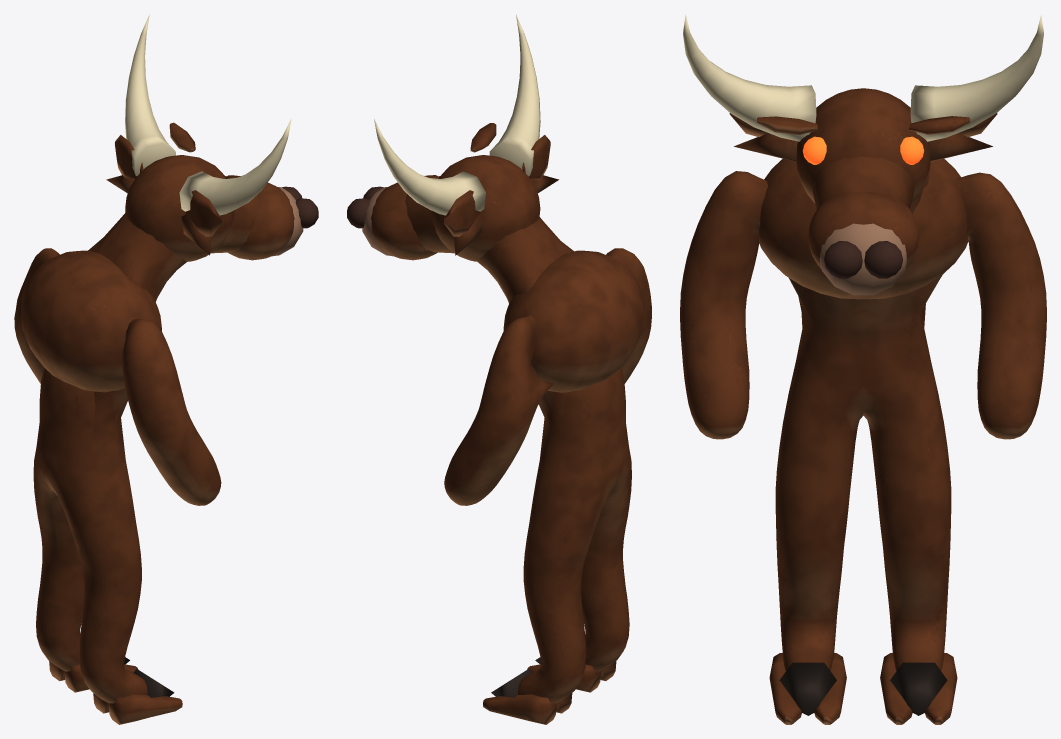
The model's file is minotaur.glb.
3 views of the same model, side by side, from view 1: azimuth 30°, elevation 25°; view 2: azimuth 150°, elevation 25°; view 3: azimuth 270°, elevation 25° (orthographic). The views are drawn at different scales.
Visible parts, largest first — view 1: minotaur.001; view 2: minotaur.001; view 3: minotaur.001.
Part boxes in pixels (<box>): minotaur.001: <box>14,14,318,724</box>; minotaur.001: <box>347,15,651,724</box>; minotaur.001: <box>680,15,1046,724</box>.
Bounding box in the file's own units: 1.28 × 2.73 × 1.19.
Materials: 6 (1 with a texture image).
